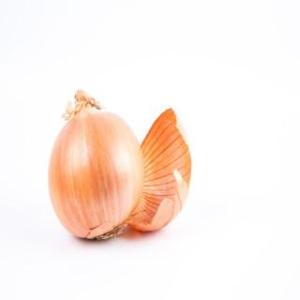onion: (48, 92, 146, 240)
